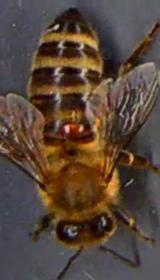varroa_mite: (56, 120, 92, 142)
